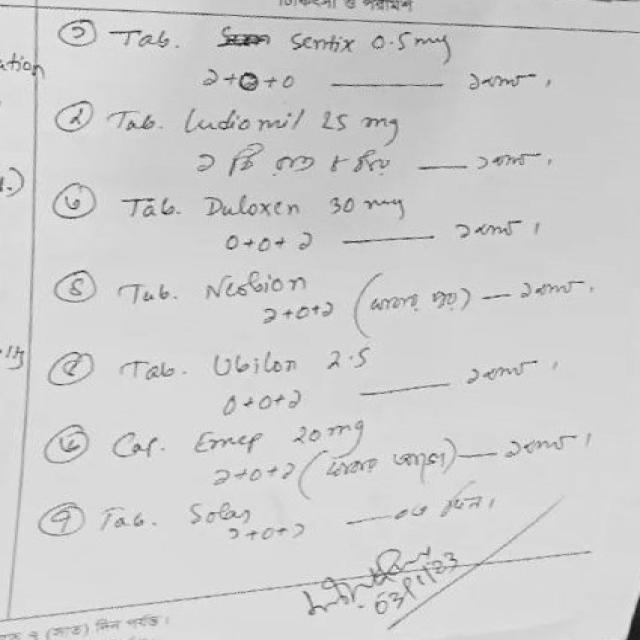medicine: (182, 102, 308, 140), (196, 266, 314, 301), (208, 345, 312, 383), (196, 190, 310, 223), (181, 420, 272, 460), (280, 28, 362, 62), (182, 494, 264, 527)
